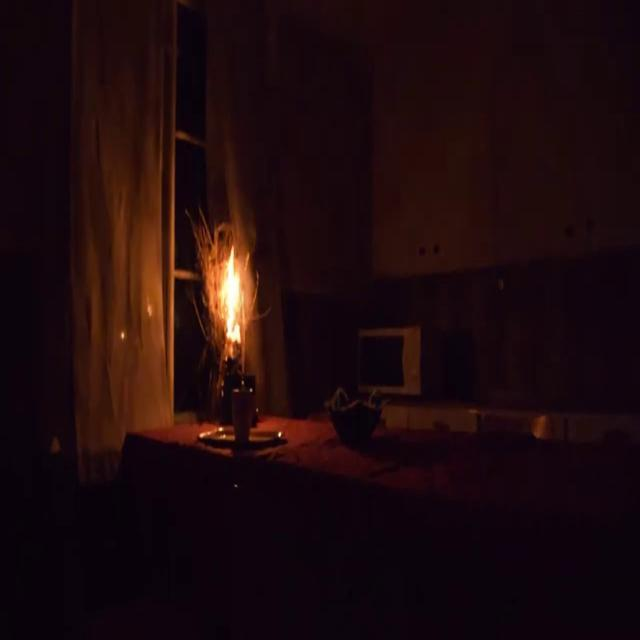Fire: (216, 239, 247, 349)
